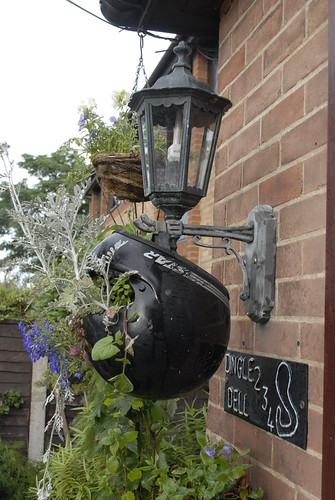helmet: (72, 232, 240, 399)
